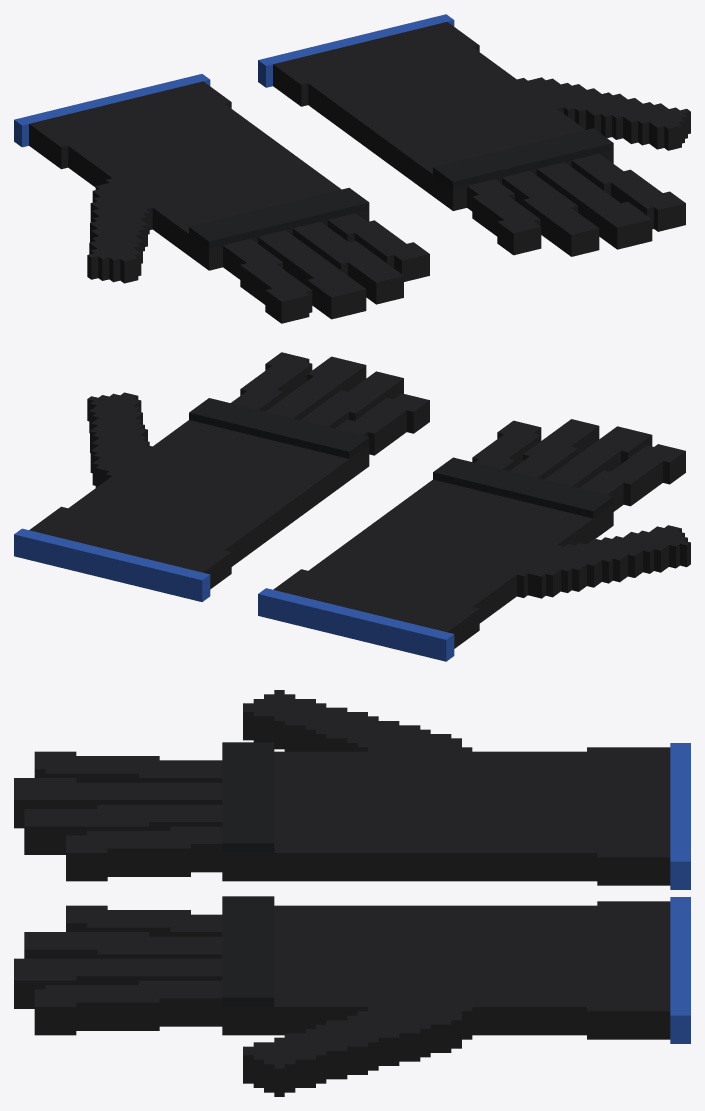
File: wetsuit_gloves.glb
The picture shows the model from 3 angles, top to bottom: view 1: azimuth 30°, elevation 25°; view 2: azimuth 150°, elevation 25°; view 3: azimuth 270°, elevation 25°; orthographic projection. The views are drawn at different scales.
Visible parts, largest first — view 1: wetsuit_gloves:compound; view 2: wetsuit_gloves:compound; view 3: wetsuit_gloves:compound.
Boxes of the visible parts, box(x1,y1,x2,y2) form: wetsuit_gloves:compound: box(14, 14, 690, 323); wetsuit_gloves:compound: box(14, 352, 690, 661); wetsuit_gloves:compound: box(14, 690, 690, 1096).
Bounding box in the file's own units: 0.344 × 0.016 × 0.26.
